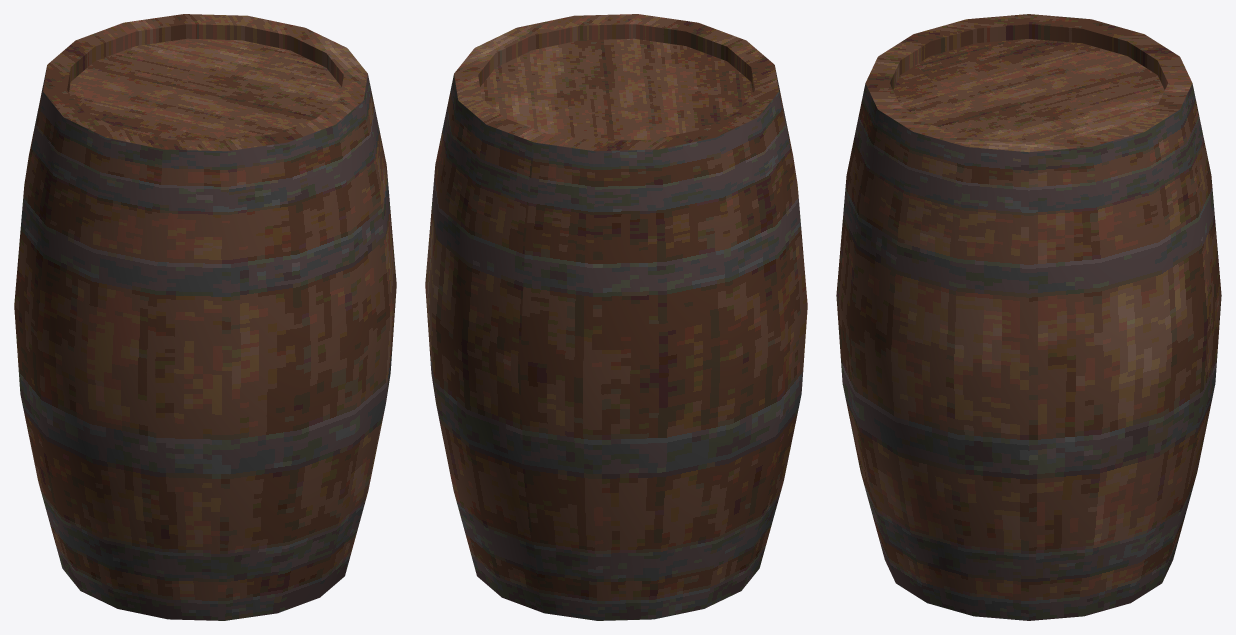
Rendered from barrel.gltf.
3 renders of one model, left to right at view 1: azimuth 30°, elevation 25°; view 2: azimuth 150°, elevation 25°; view 3: azimuth 270°, elevation 25°, orthographic.
Parts seen in each view (by area): view 1: barrel-col; view 2: barrel-col; view 3: barrel-col.
Boxes of the visible parts, left/top/right/bottom form: barrel-col: left=14, top=14, right=396, bottom=620; barrel-col: left=425, top=14, right=807, bottom=620; barrel-col: left=836, top=14, right=1221, bottom=620.
Bounding box in the file's own units: 0.9749 × 1.33 × 0.9749.
1 material, 1 textured.
